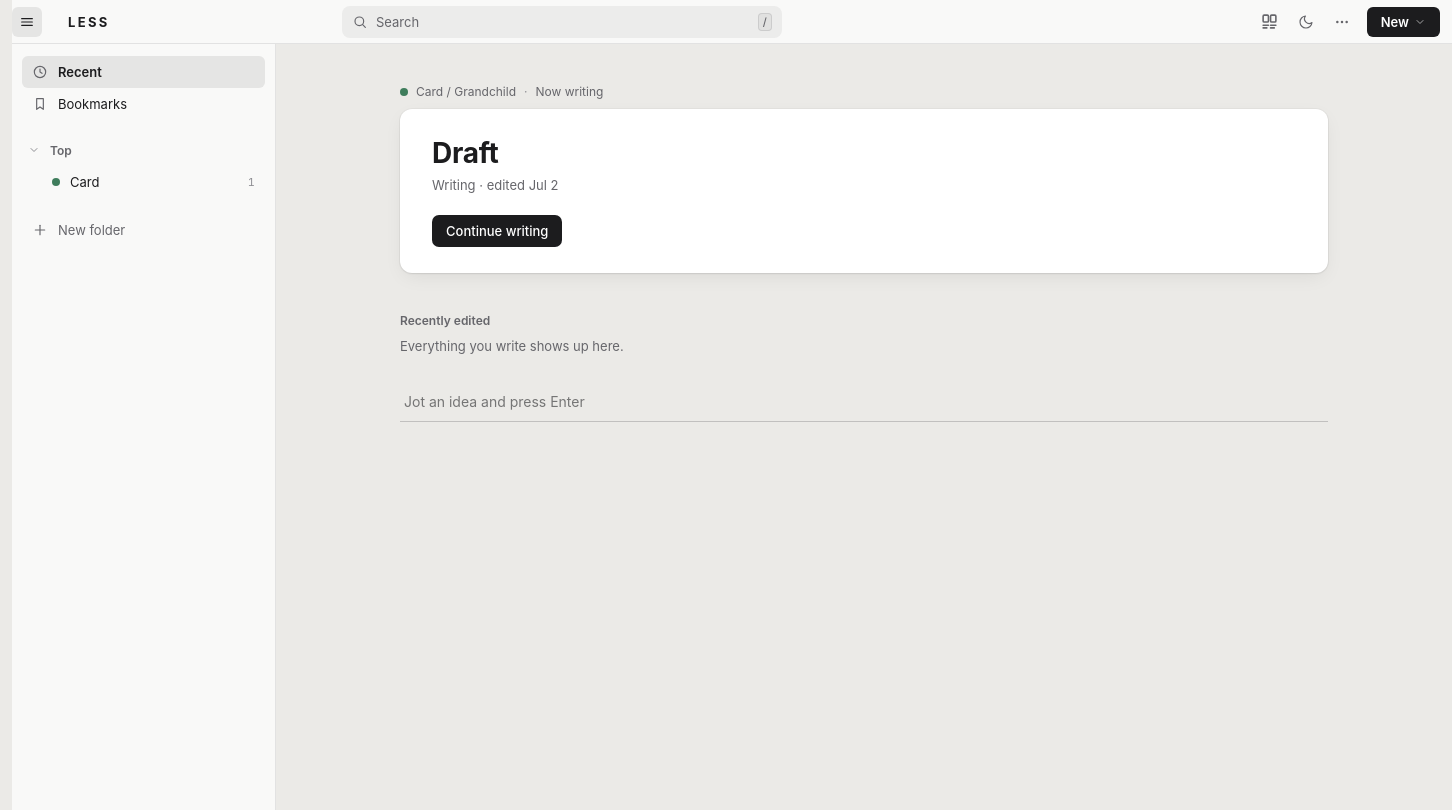
Test: ProjectsHome library › hides nested folders until their parent folder is opened
This screenshot has width=1452, height=810.
Click the button with class "lib-project". click: (56, 182)
box: [52,174,255,190]
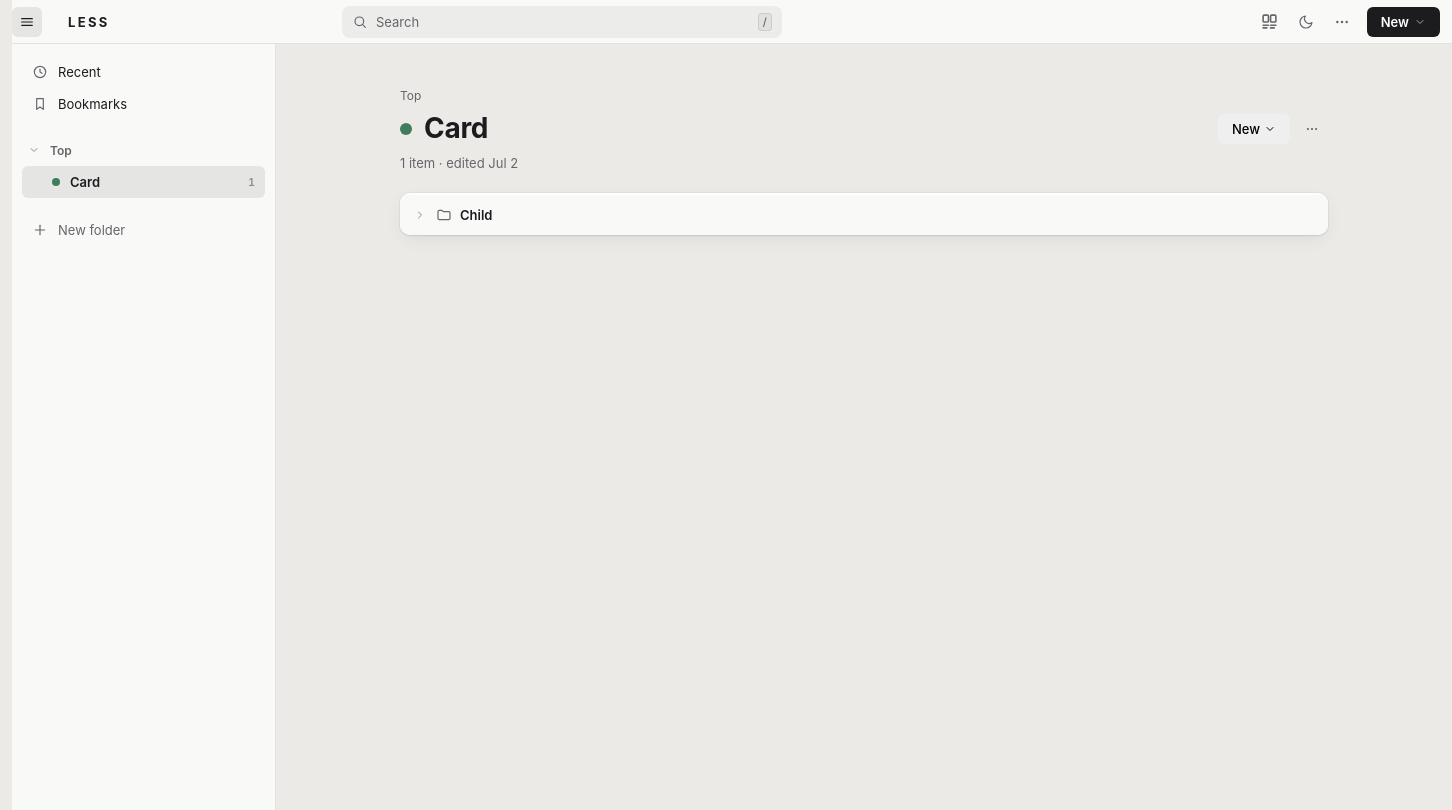
Now the text with class "lib-main" no longer shows "Grandchild"
Click the button with class "shelf-name". click: (476, 215)
box: [458,201,1282,229]
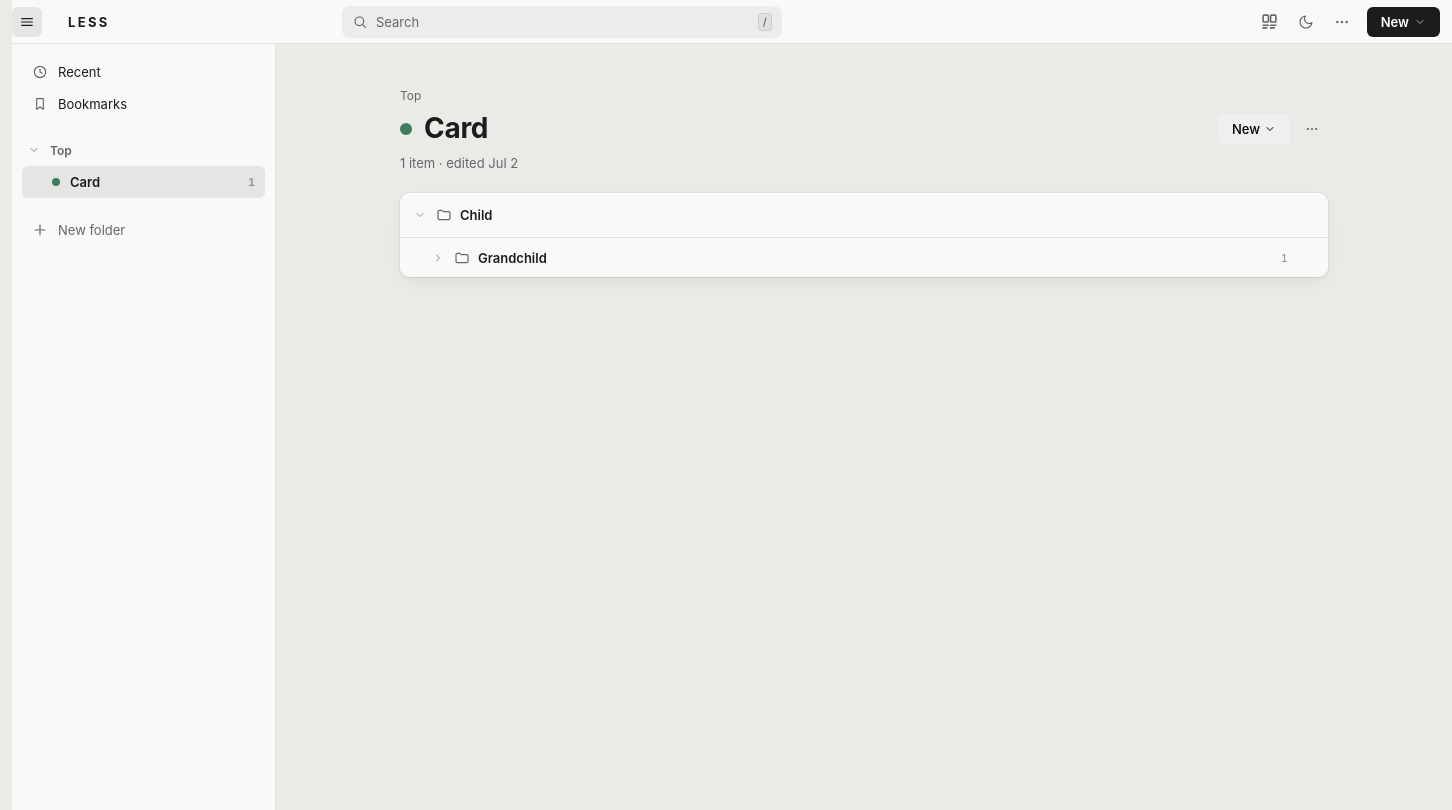
Now the element with class "lib-main" shows "Grandchild", box [476,244,1275,272]
